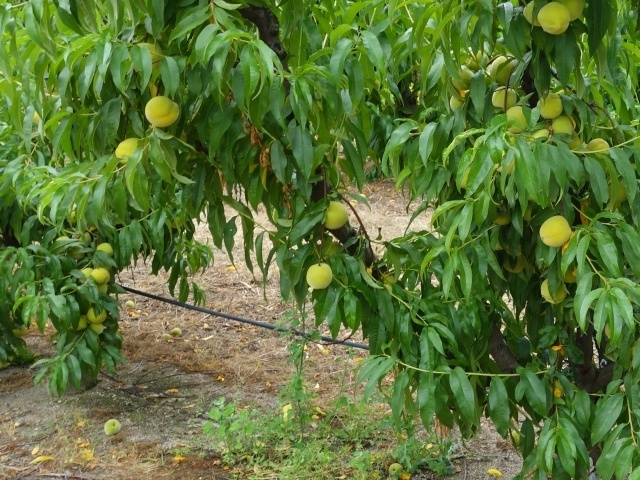peach: (142, 93, 184, 131), (533, 212, 575, 249), (534, 1, 570, 36), (319, 197, 352, 232), (538, 273, 569, 306), (112, 136, 142, 169), (490, 51, 519, 85), (487, 84, 519, 114), (303, 262, 336, 291), (535, 90, 565, 120), (517, 1, 548, 29), (504, 103, 531, 135), (547, 111, 575, 141), (557, 1, 589, 25), (450, 66, 477, 93), (586, 135, 612, 160), (85, 302, 108, 326), (89, 265, 112, 287), (95, 241, 115, 260), (86, 319, 106, 337)
